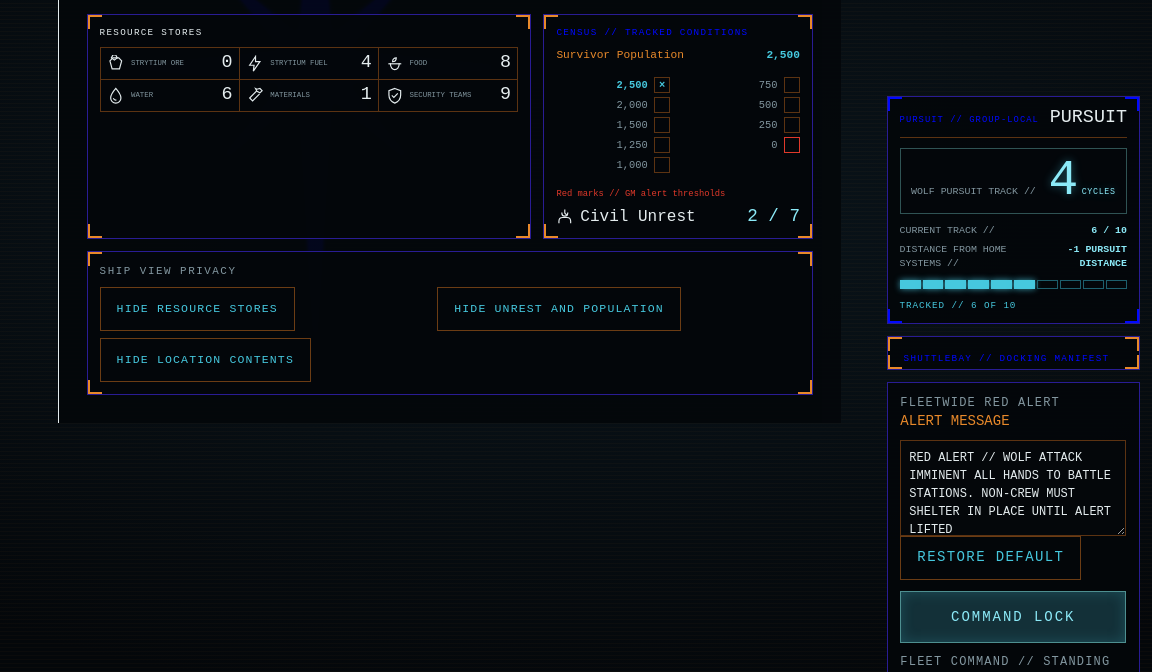
Scenario: hides location contents without removing the ship coordinate knowledge
(page scrolled)
Click the button "Hide location contents" at (205, 360), box [100,338,311,382]
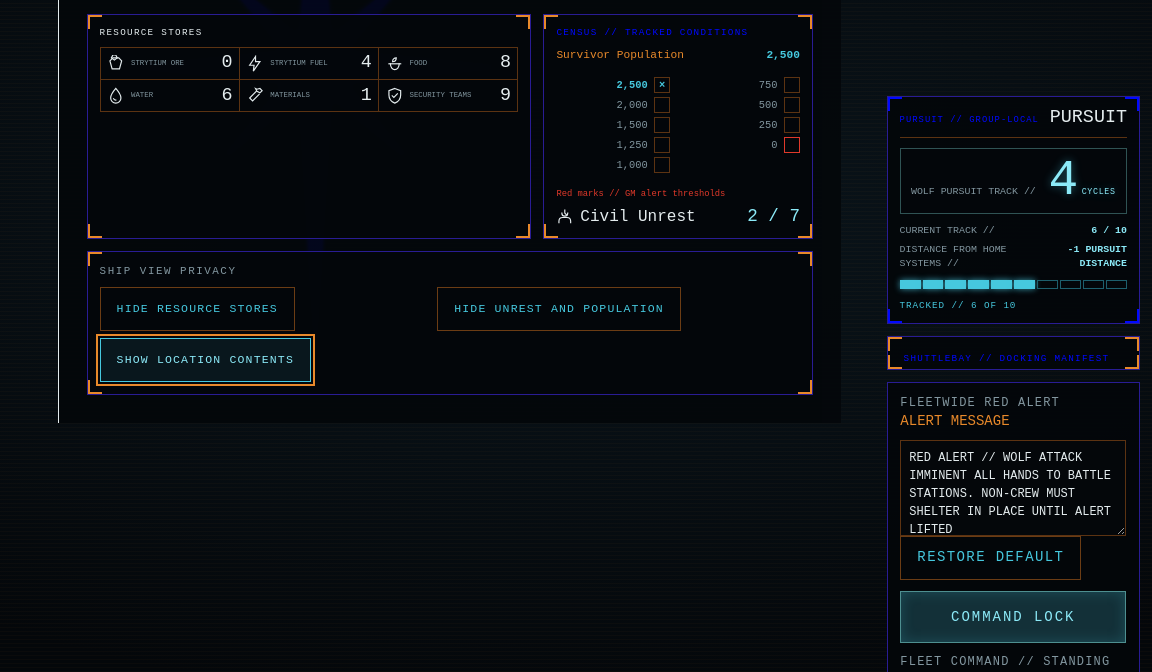
Click the button "Show location contents" at (205, 360), box [100,338,311,382]
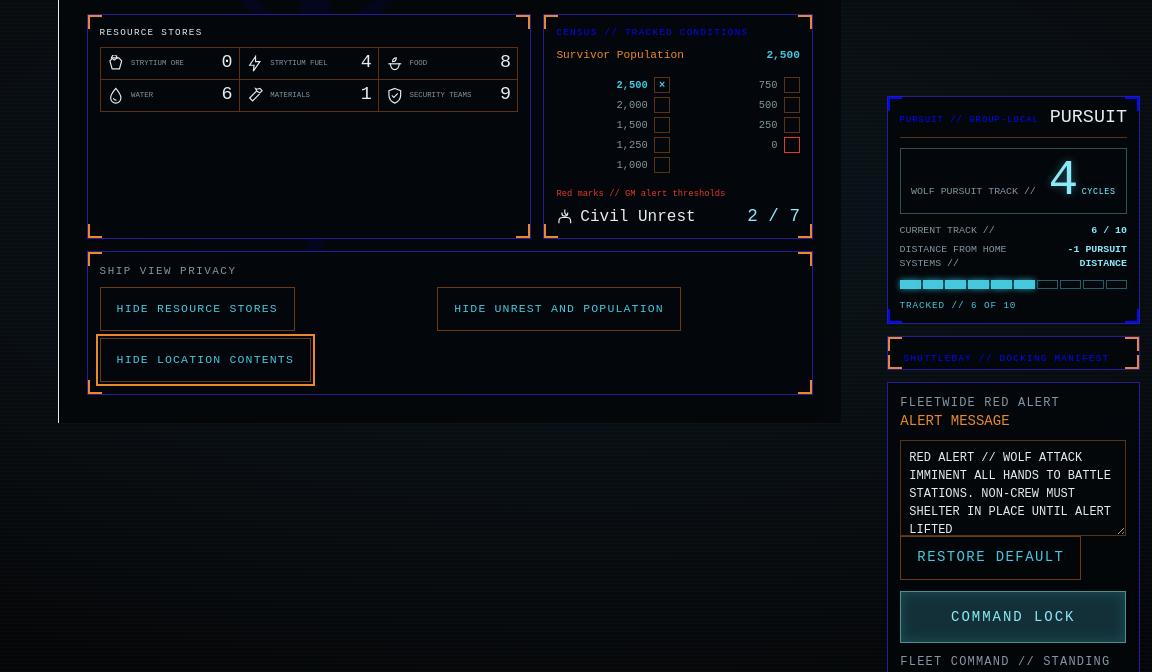
Click the button "Hide location contents" at (205, 360), box [100,338,311,382]
(page scrolled)
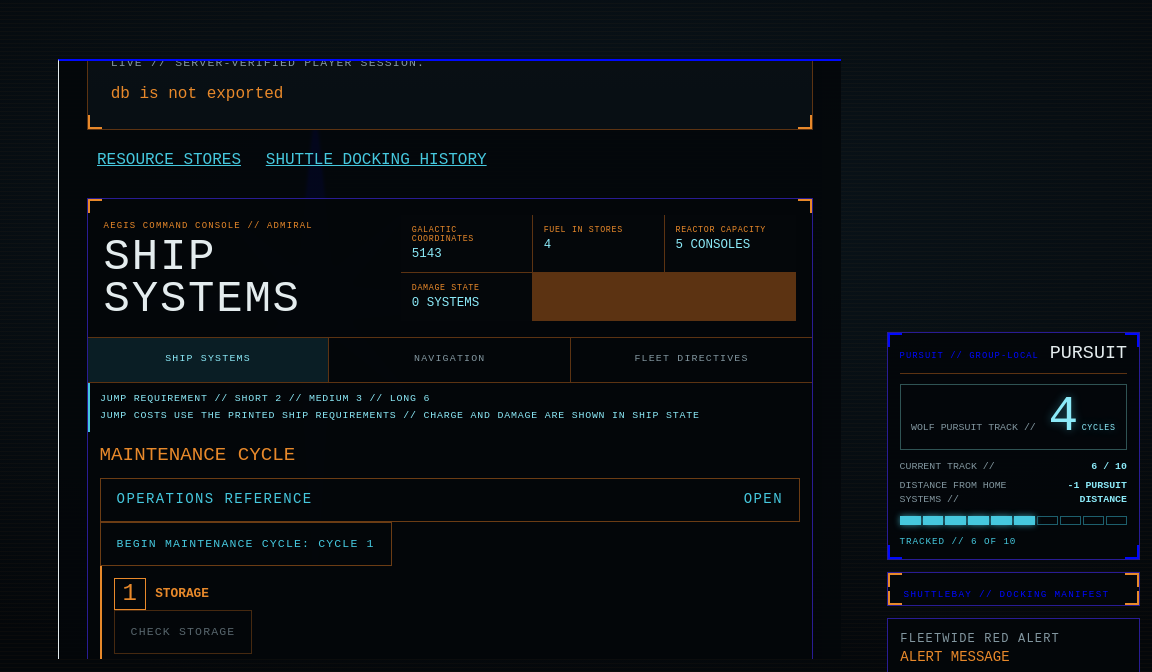
Click the button "Navigation" at (450, 360), box [329,338,571,382]
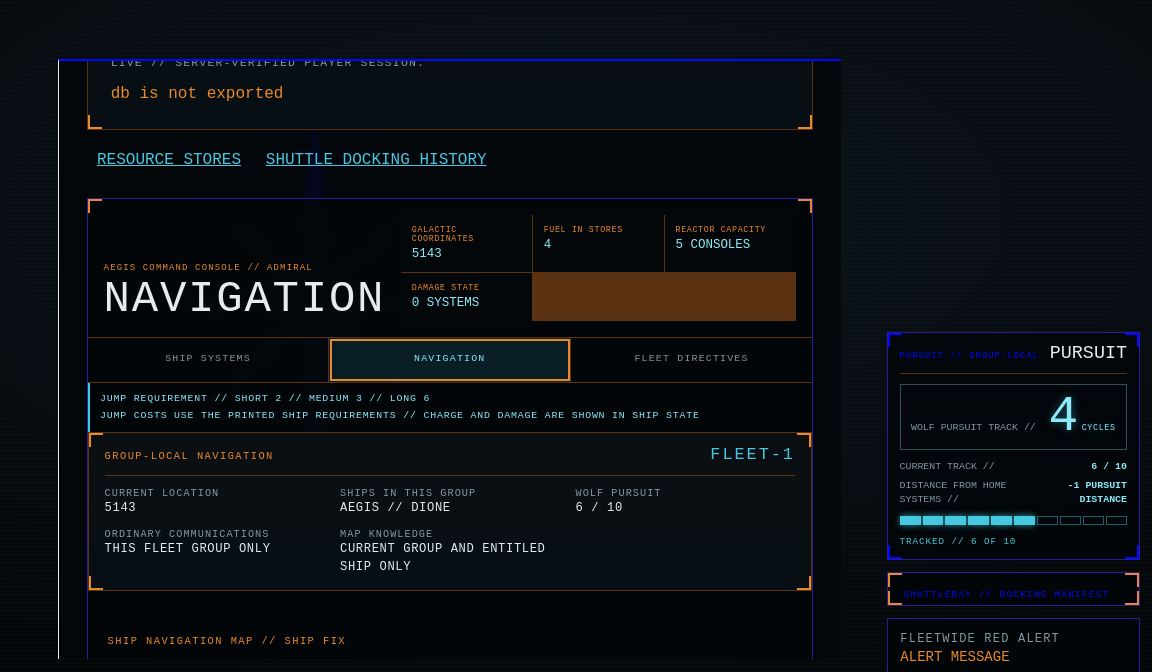
Now the element named "Current fleet group and location" shows "FLEET-1", box [710,445,795,464]
Now the element named "Current fleet group and location" shows "AEGIS // DIONE", box [340,501,451,515]
Now the element named "Current fleet group and location" shows "6 / 10", box [576,501,623,515]
